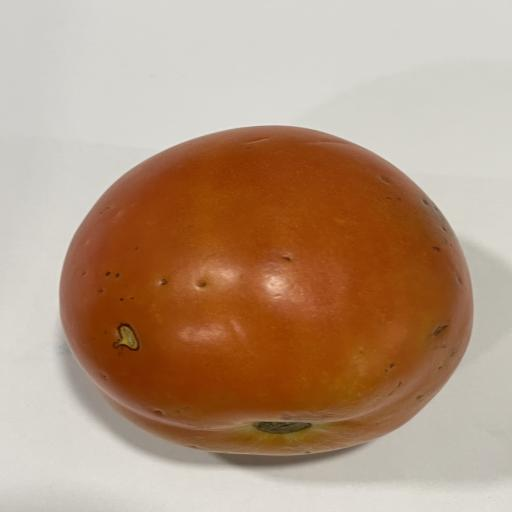unripe: (60, 126, 472, 455)
